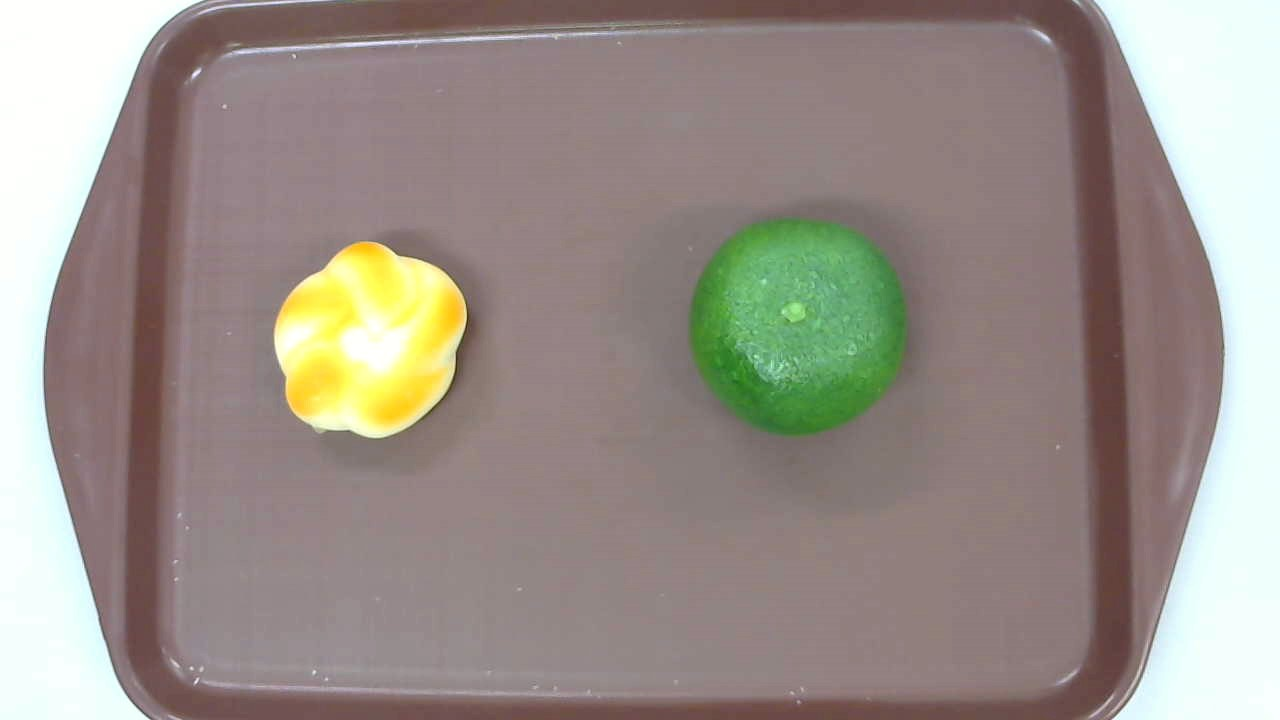green orange: (691, 218, 906, 432)
twist bread: (273, 240, 467, 440)
